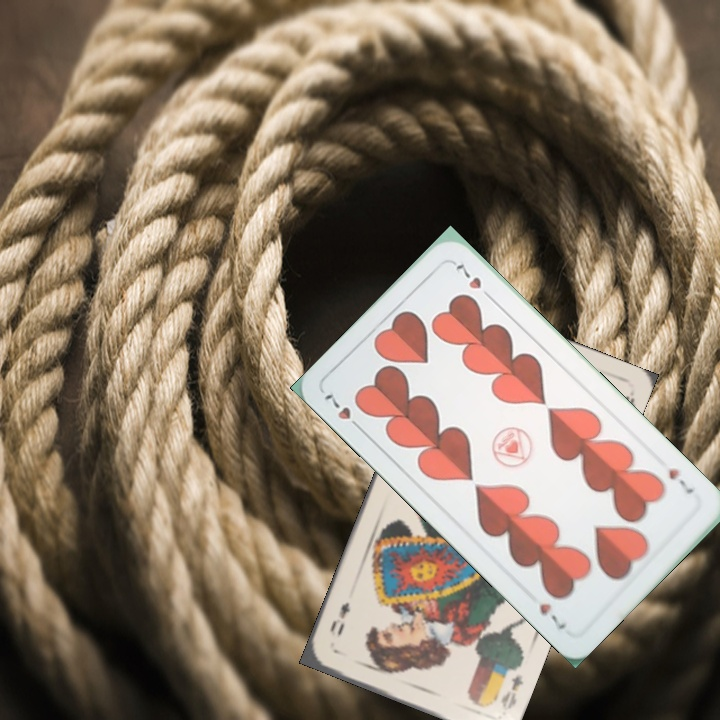EO: (497, 670, 526, 714)
H7: (320, 389, 366, 435), (664, 463, 696, 497)
